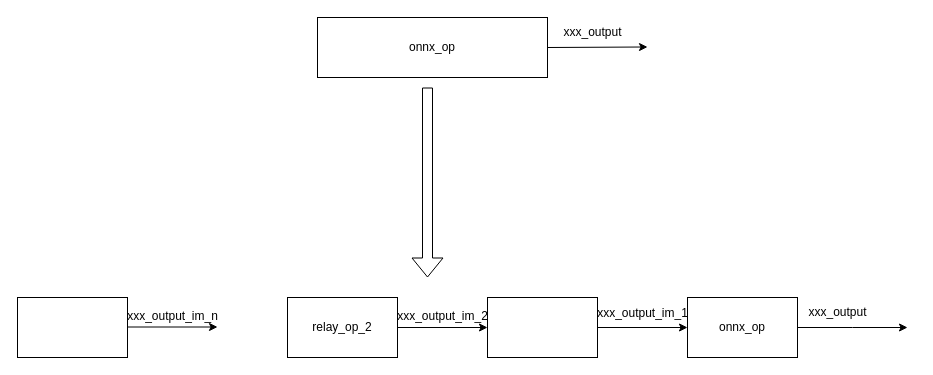
The diagram is 933 pixels wide and 375 high, and some of its shapes have lost their labels. Here are the shapes that lost their labels. From the top down, the centre of each, then its label:
At (x=72, y=327): "relay_op_n".
At (x=542, y=327): "relay_op_1".
